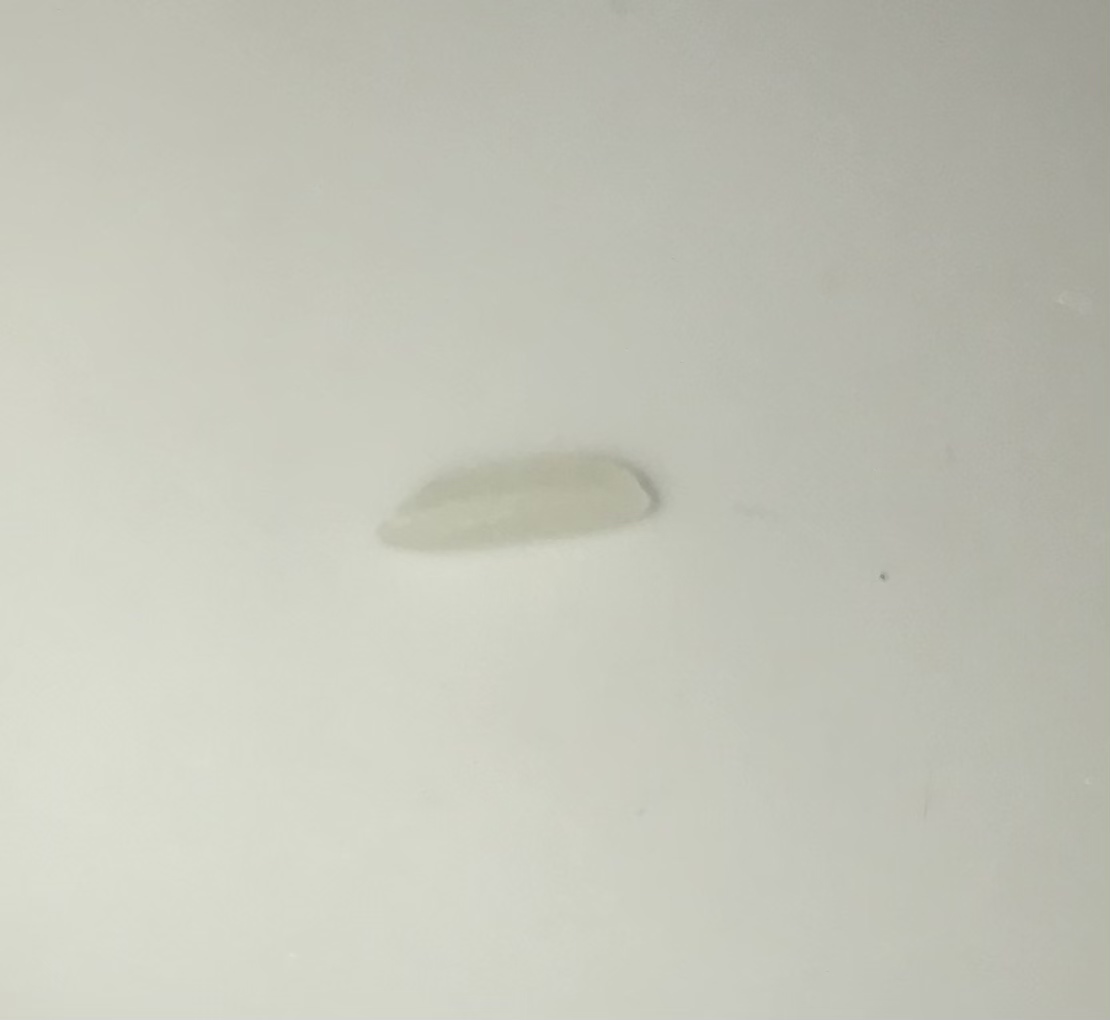Gao Thom Go Cong: (358, 414, 680, 567)
